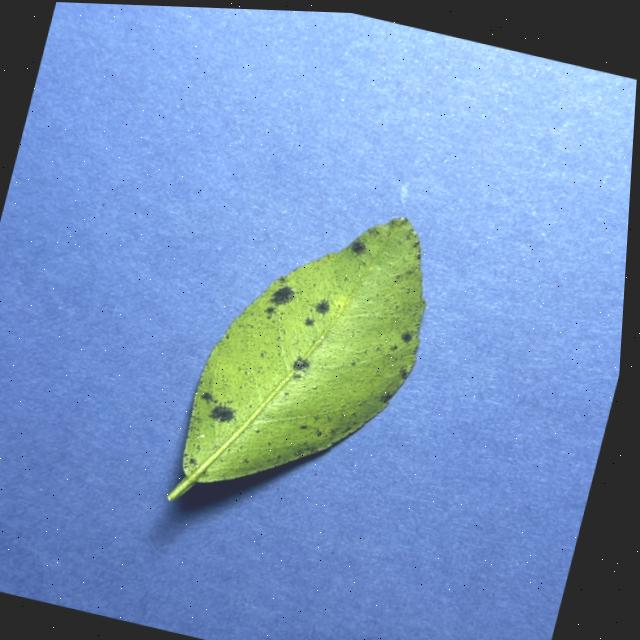sooty_mold: (169, 218, 425, 500)
